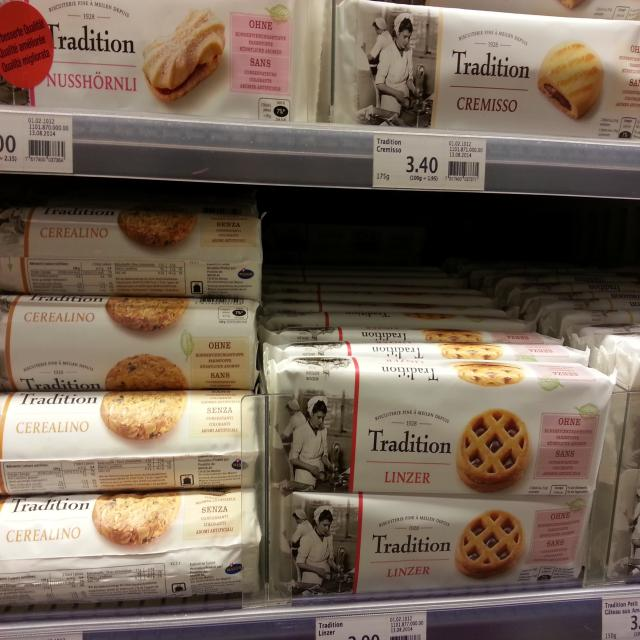Biscuits: (269, 354, 610, 497), (334, 0, 640, 143), (0, 0, 331, 126), (278, 492, 597, 594), (0, 486, 260, 605), (0, 390, 258, 498), (0, 198, 264, 297), (0, 294, 260, 390)
